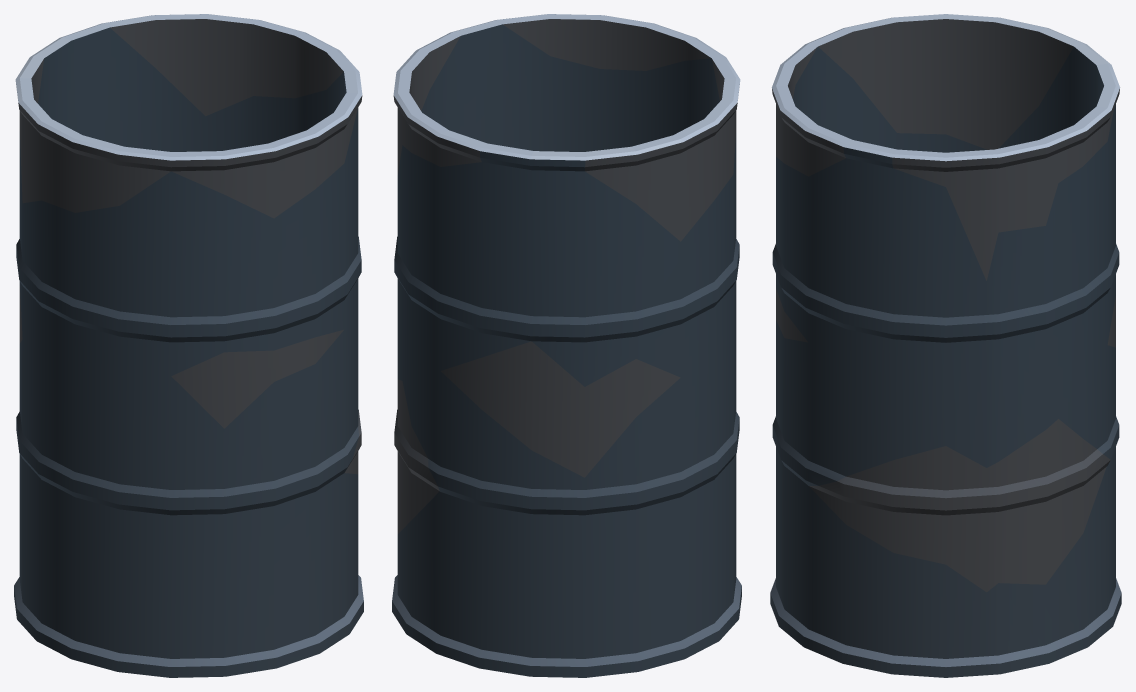
Rendered from barrel.glb.
3 views of the same model, side by side, from view 1: azimuth 30°, elevation 25°; view 2: azimuth 150°, elevation 25°; view 3: azimuth 270°, elevation 25° (orthographic).
Visible parts, largest first — view 1: Prop; view 2: Prop; view 3: Prop.
Part boxes in pixels (left/top/right/bottom): Prop: left=14, top=14, right=363, bottom=677; Prop: left=392, top=14, right=741, bottom=677; Prop: left=770, top=14, right=1121, bottom=677.
Bounding box in the file's own units: 0.5535 × 0.9 × 0.5535.
